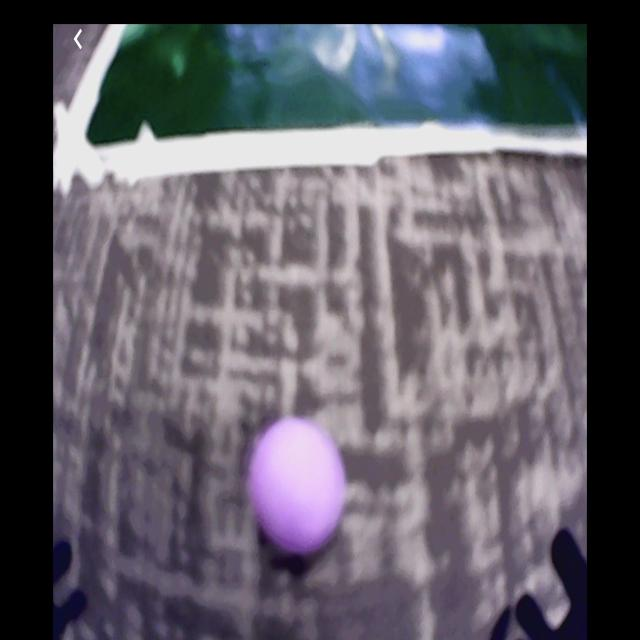ball: (249, 418, 345, 547)
